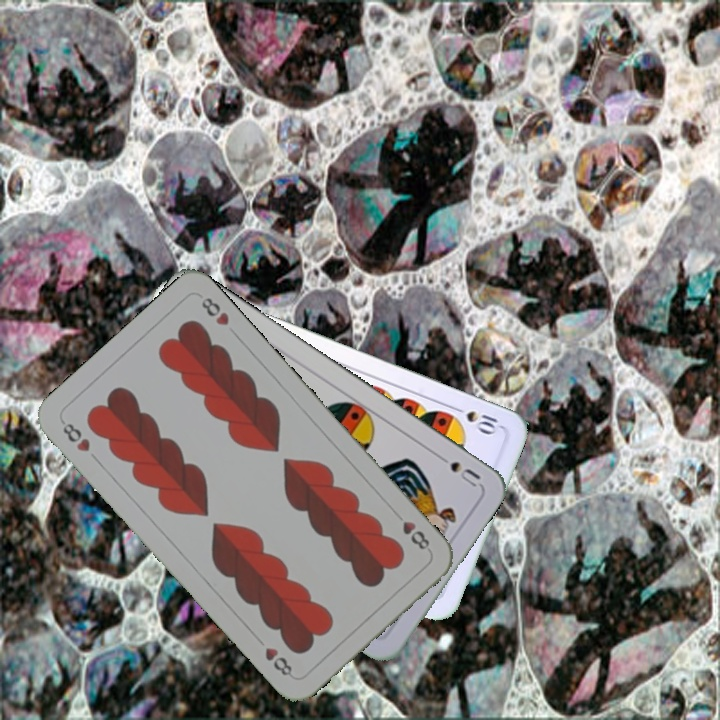H8: (389, 507, 433, 553), (57, 416, 93, 455)
S10: (447, 401, 504, 436)
SU: (431, 448, 483, 490)
